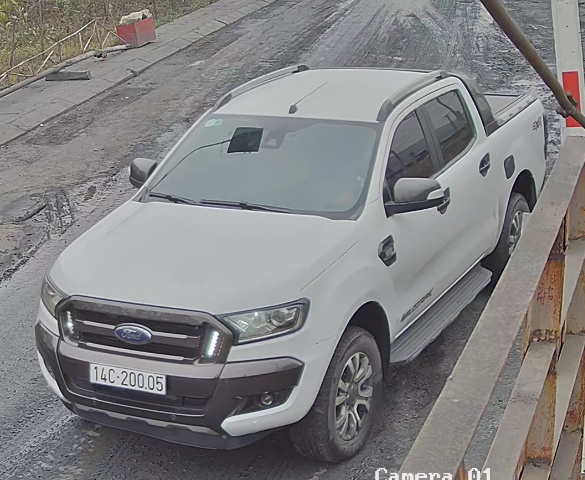vehicle plate: (88, 360, 166, 394)
